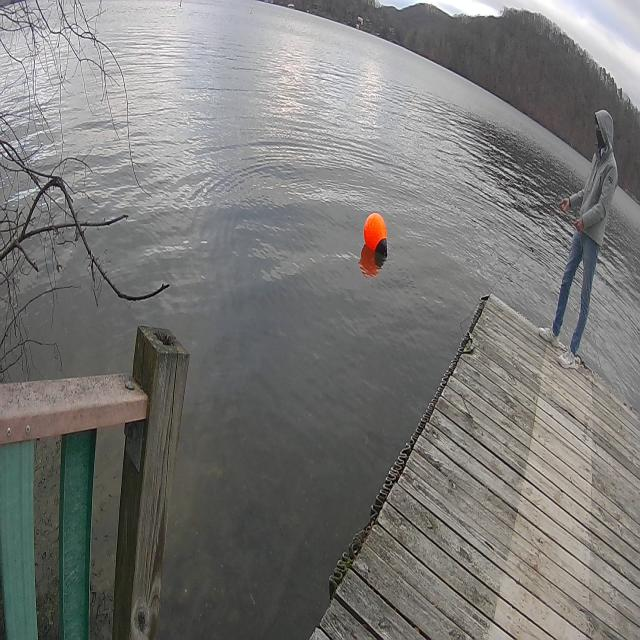Buoy: (360, 207, 392, 265)
